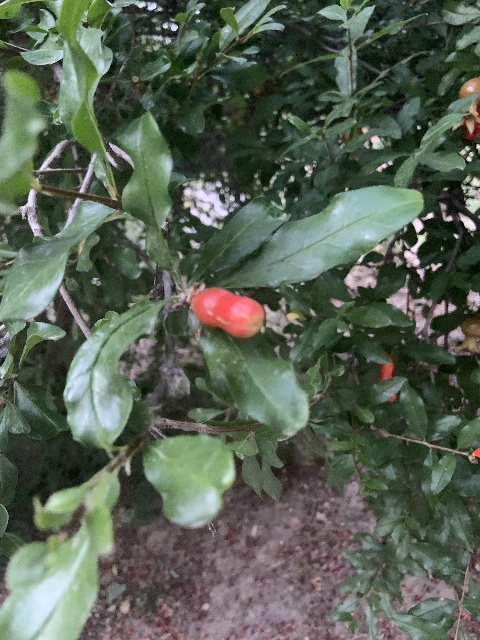bud: (191, 287, 265, 340)
early-fruit: (447, 76, 480, 133), (448, 317, 480, 354)
